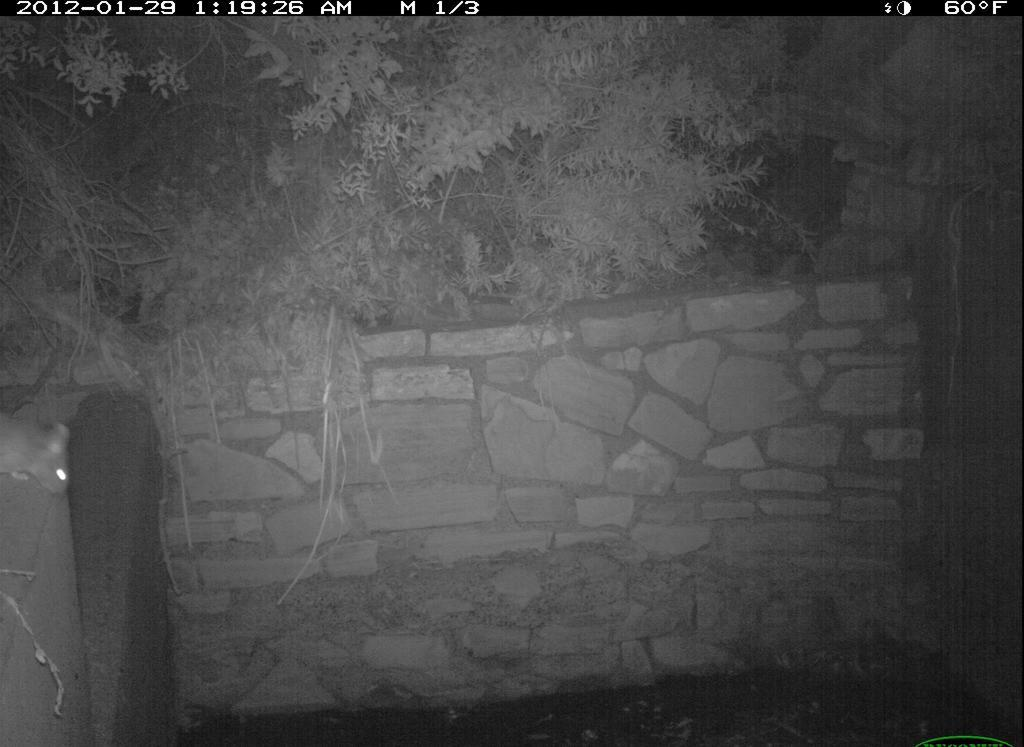rodent: (1, 401, 79, 502)
